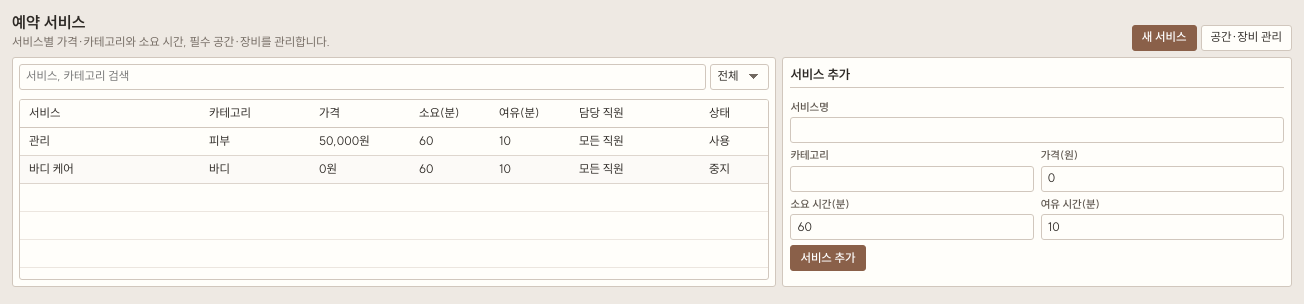
Test: SVC-10 서비스 목록 › 가격·카테고리 열을 보여 주고 검색·상태 필터로 좁힌다
Expected: the text "관리" is shown, [20,128,200,156]
Expected: the text "50,000원" is shown, [310,128,410,156]
Select "중지" in the dropdown named "서비스 상태 필터": (740, 77) [710,64,769,90]
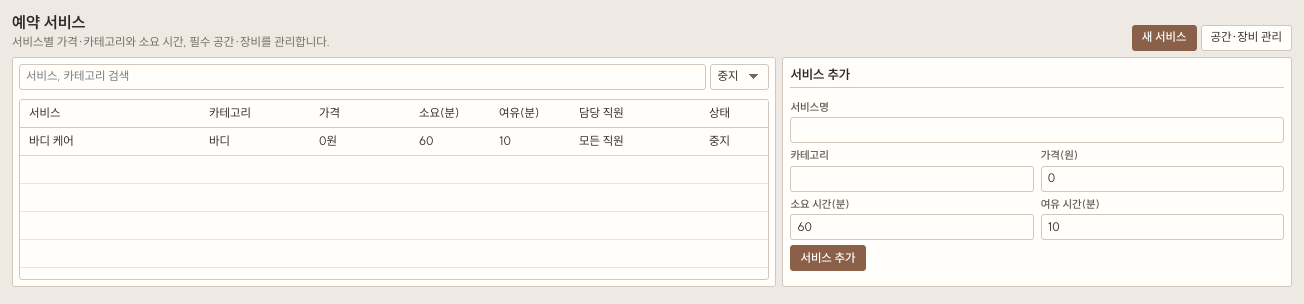
Expected: the text "바디 케어" is shown, [20,128,200,156]
Select "전체" in the dropdown named "서비스 상태 필터": (740, 77) [710,64,769,90]
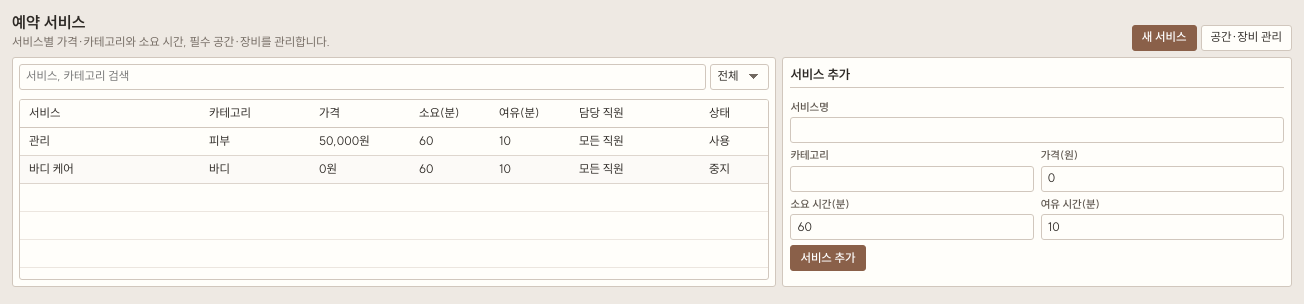
In the field named "서비스 검색": (363, 77) [19,64,706,90], type "피부"
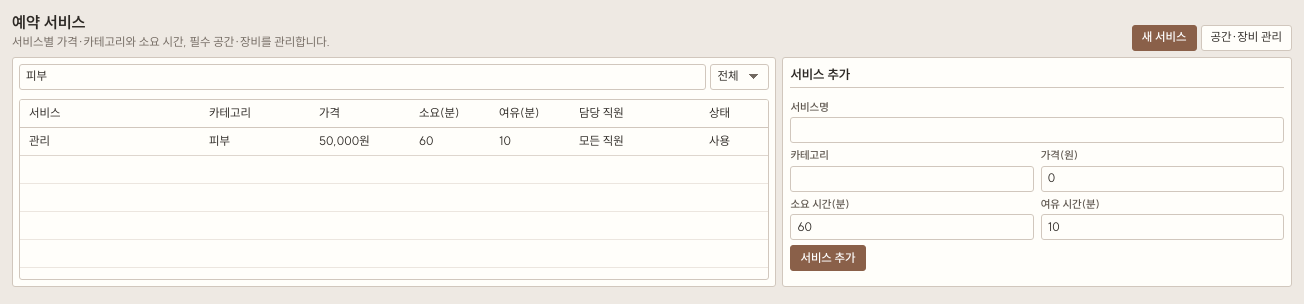
Result: the text "바디 케어" is gone
